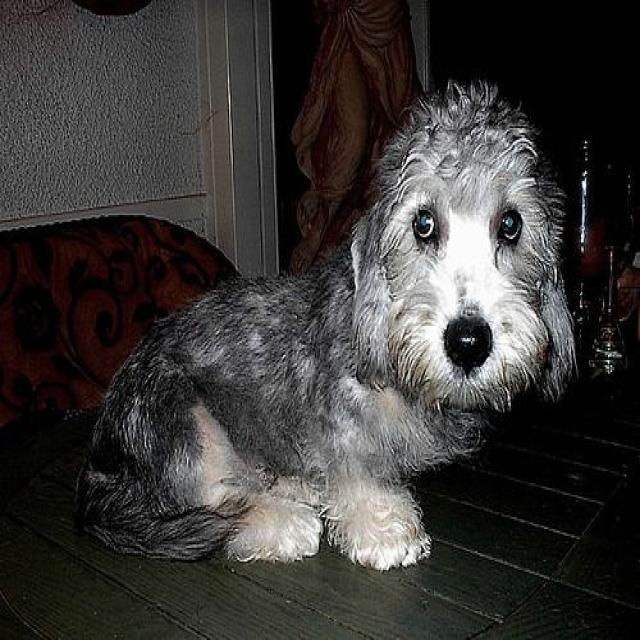dandie_dinmont: (81, 82, 578, 572)
